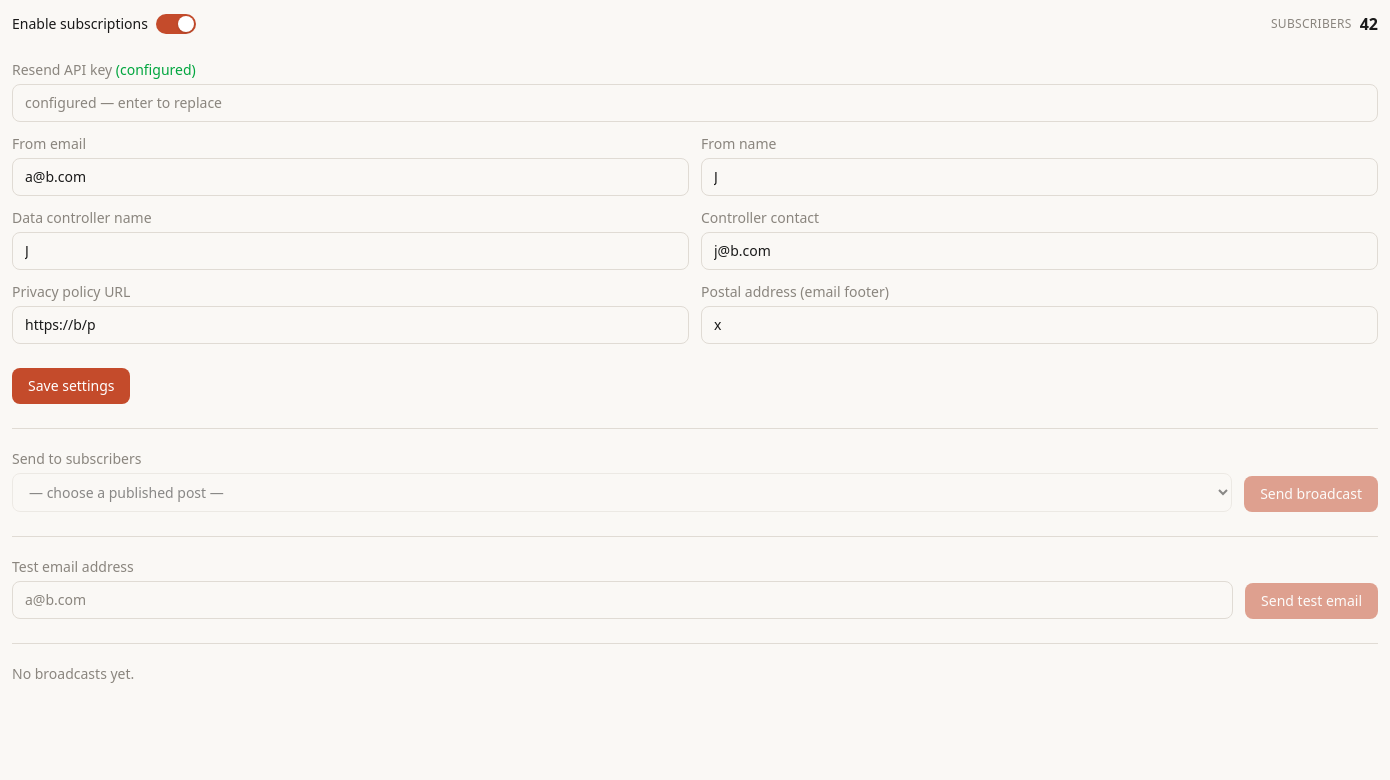
SubscriptionsPanel › shows 400 detail error from updateSubscriptionSettings
Expected: the text "42" is shown, [1360,12,1378,36]
Click the button "Save settings": (71,386) [12,368,130,404]
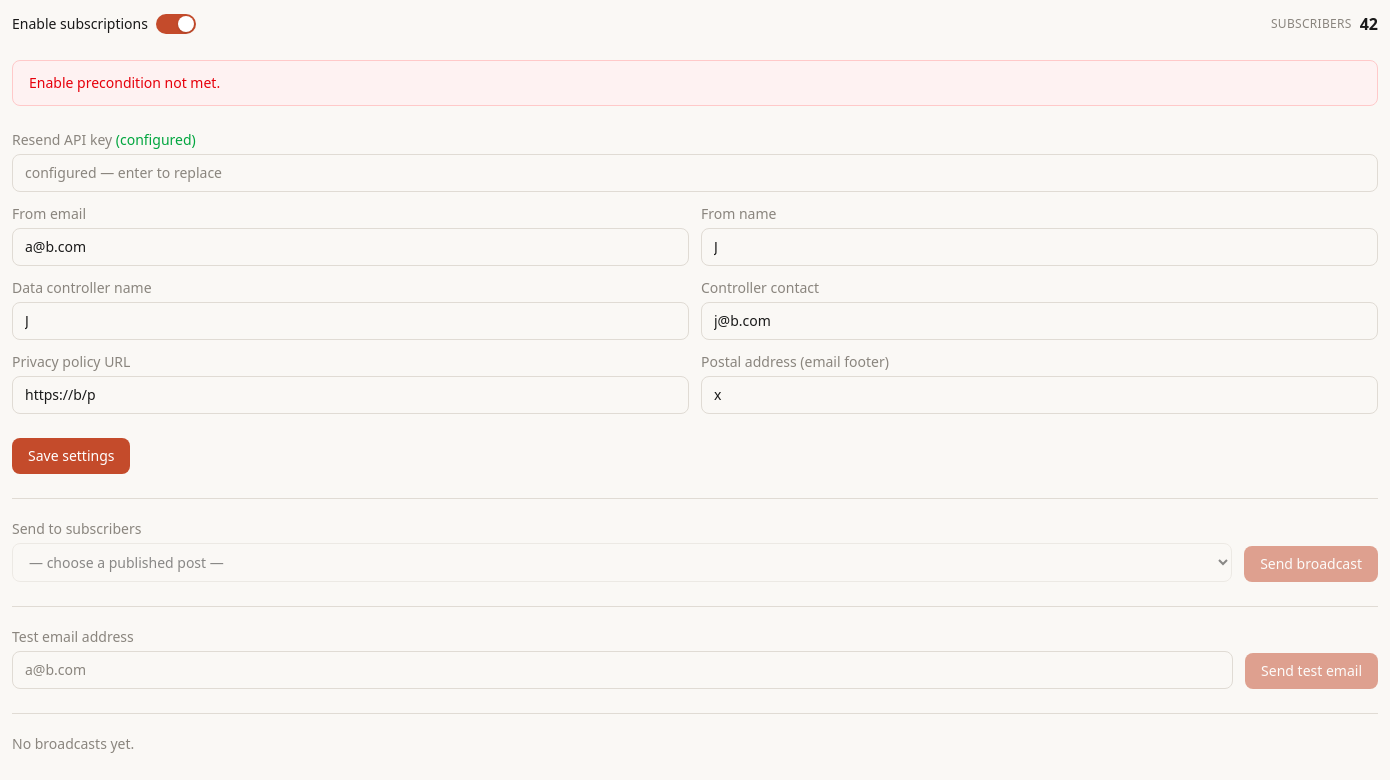
Expected: the text "Enable precondition not met." is shown, [12,60,1378,106]
